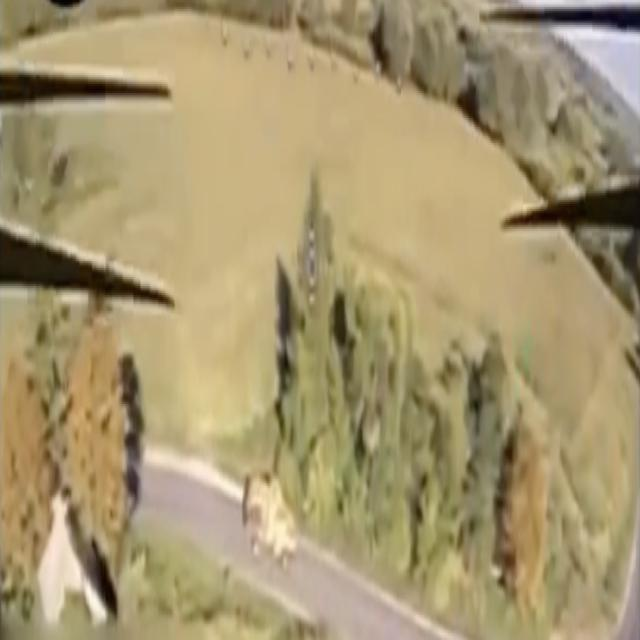vehicle: (242, 467, 296, 569)
